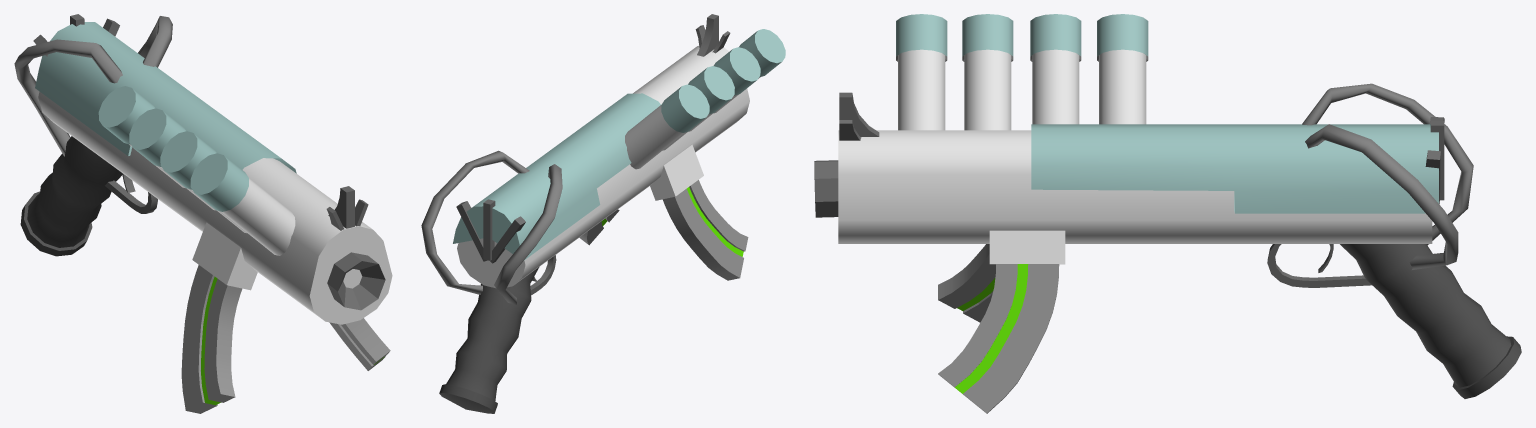
File: assult gun.fbx
The picture shows the model from 3 angles, left to right: view 1: azimuth 30°, elevation 25°; view 2: azimuth 150°, elevation 25°; view 3: azimuth 270°, elevation 25°; orthographic projection. The views are drawn at different scales.
Visible parts, largest first — view 1: pCube16; view 2: pCube16; view 3: pCube16.
Boxes of the visible parts, left/top/right/bottom form: pCube16: left=14, top=14, right=392, bottom=413; pCube16: left=421, top=14, right=785, bottom=413; pCube16: left=814, top=14, right=1521, bottom=413.
Size of the model in its own units: 6.08 by 8.06 by 15.61.
